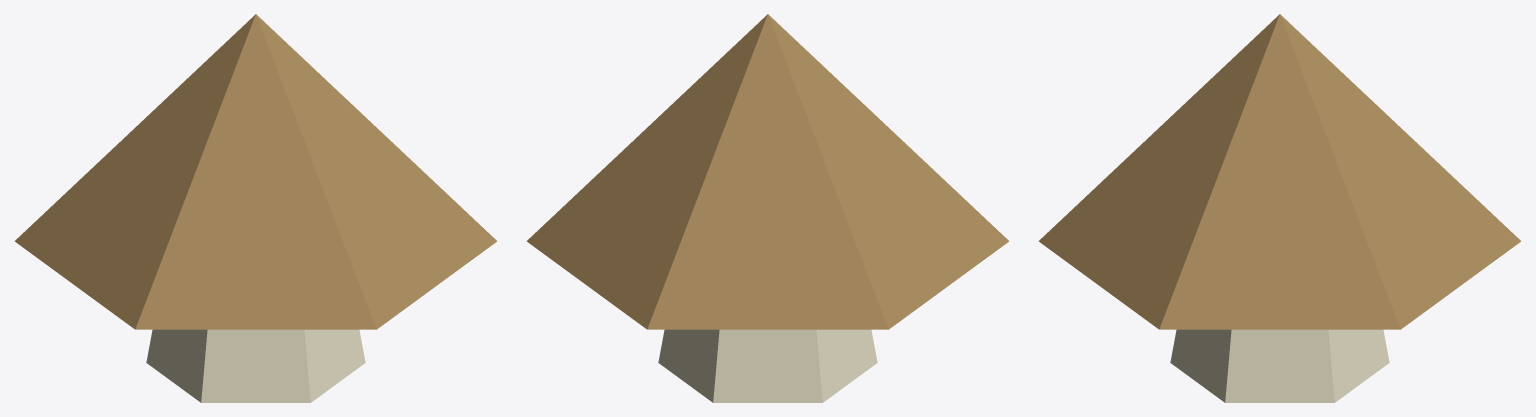
Rendered from Vegetation_New_Mushroom_Brown_05.FBX.
The picture shows the model from 3 angles, left to right: view 1: azimuth 30°, elevation 25°; view 2: azimuth 150°, elevation 25°; view 3: azimuth 270°, elevation 25°; orthographic projection.
Visible parts, largest first — view 1: Vegetation_New_Mushroom_Brown_05; view 2: Vegetation_New_Mushroom_Brown_05; view 3: Vegetation_New_Mushroom_Brown_05.
Boxes of the visible parts, x1,y1,x2,y2 form: Vegetation_New_Mushroom_Brown_05: [14, 14, 497, 402]; Vegetation_New_Mushroom_Brown_05: [526, 14, 1009, 402]; Vegetation_New_Mushroom_Brown_05: [1038, 14, 1521, 402].
Size of the model in its own units: 402 by 369 by 464.
